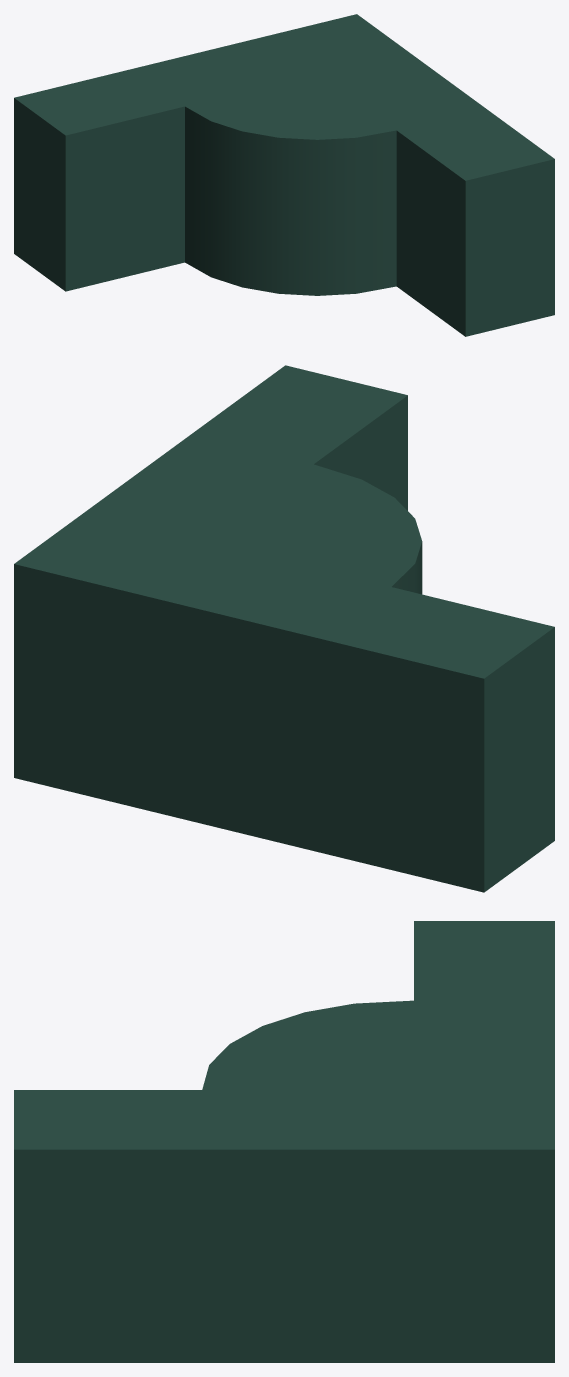
The model's file is W2_WallCorner_Round2B_Top.fbx.
3 views of the same model, one above another, from view 1: azimuth 30°, elevation 25°; view 2: azimuth 150°, elevation 25°; view 3: azimuth 270°, elevation 25° (orthographic). The views are drawn at different scales.
Visible parts, largest first — view 1: W2_WallCorner_Round2B_Top.001; view 2: W2_WallCorner_Round2B_Top.001; view 3: W2_WallCorner_Round2B_Top.001.
Boxes of the visible parts, x1,y1,x2,y2 form: W2_WallCorner_Round2B_Top.001: [14, 14, 554, 336]; W2_WallCorner_Round2B_Top.001: [14, 365, 554, 892]; W2_WallCorner_Round2B_Top.001: [14, 921, 554, 1362].
Size of the model in its own units: 1.15 by 0.5 by 1.15.
